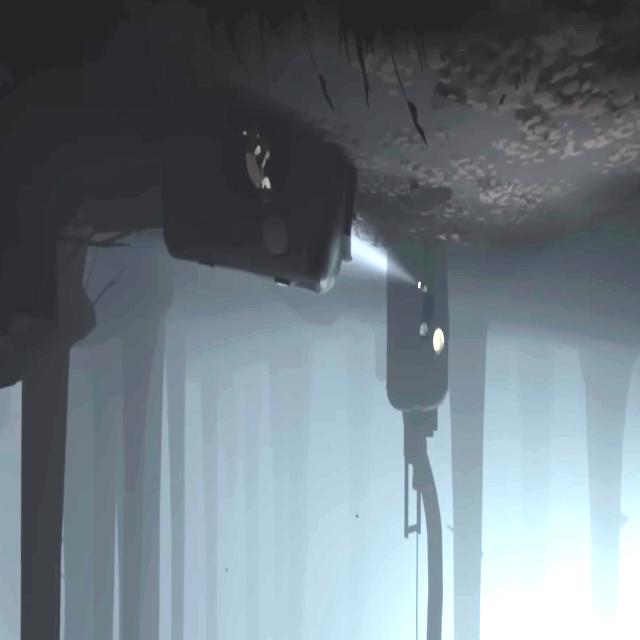boy: (241, 126, 272, 200)
